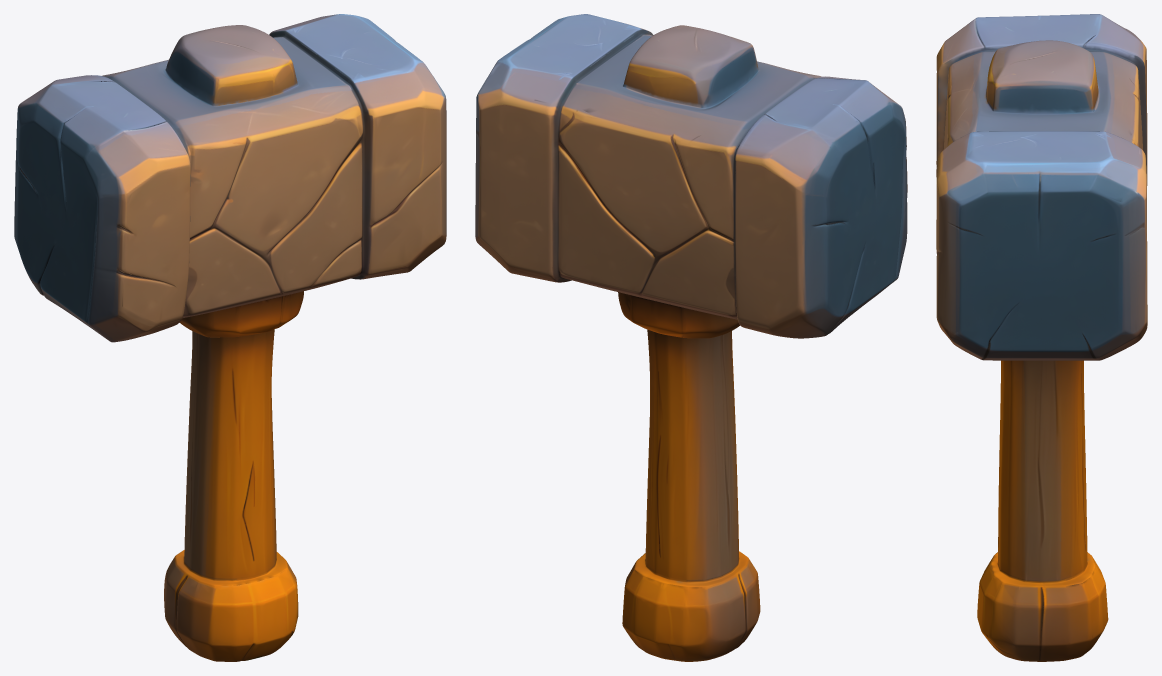
The model's file is hammer.glb.
3 views of the same model, side by side, from view 1: azimuth 30°, elevation 25°; view 2: azimuth 150°, elevation 25°; view 3: azimuth 270°, elevation 25° (orthographic). The views are drawn at different scales.
Parts seen in each view (by area): view 1: node_0; view 2: node_0; view 3: node_0.
Boxes of the visible parts, <box> form: node_0: <box>14,14,446,661</box>; node_0: <box>475,14,907,661</box>; node_0: <box>936,14,1147,661</box>.
Bounding box in the file's own units: 0.6868 × 1.13 × 0.3692.
Materials: 1 (1 with a texture image).
